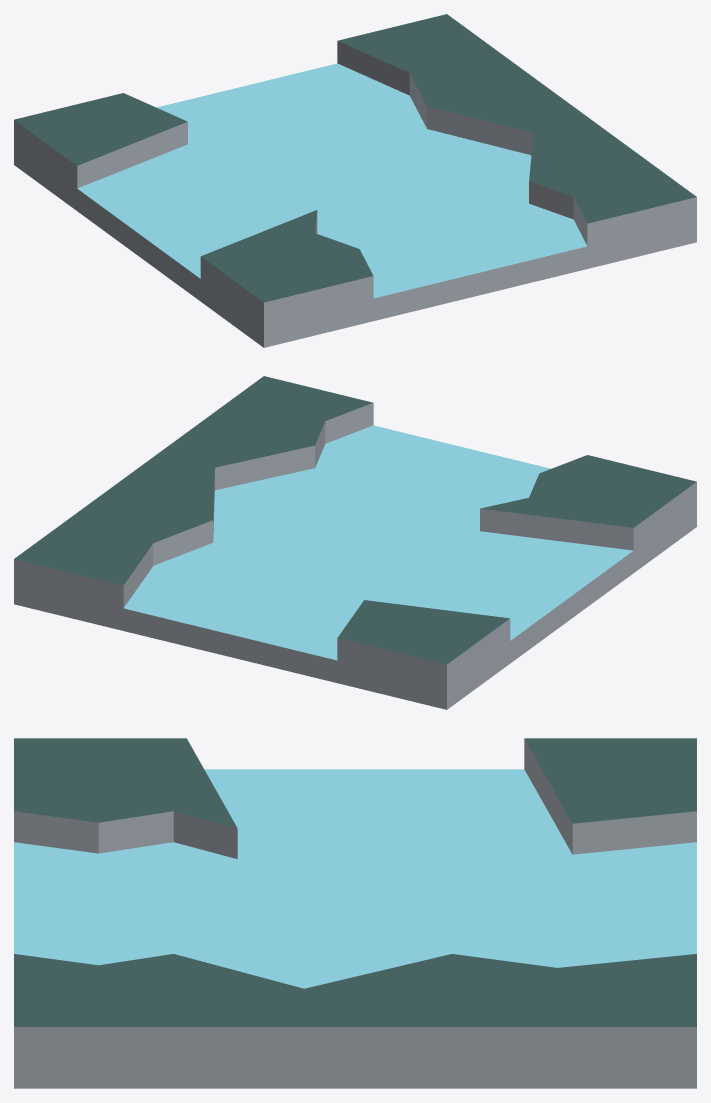
The model's file is Plate_River_3way_01.obj.
The picture shows the model from 3 angles, top to bottom: view 1: azimuth 30°, elevation 25°; view 2: azimuth 150°, elevation 25°; view 3: azimuth 270°, elevation 25°; orthographic projection. The views are drawn at different scales.
Parts seen in each view (by area): view 1: Mesh1_Plate_River_Dirt_Model.006; view 2: Mesh1_Plate_River_Dirt_Model.006; view 3: Mesh1_Plate_River_Dirt_Model.006.
Part boxes in pixels (box(x1,y1,x2,y2)): Mesh1_Plate_River_Dirt_Model.006: box(14, 14, 696, 347); Mesh1_Plate_River_Dirt_Model.006: box(14, 376, 696, 709); Mesh1_Plate_River_Dirt_Model.006: box(14, 738, 696, 1088).
Bounding box in the file's own units: 3 × 0.3 × 3.
